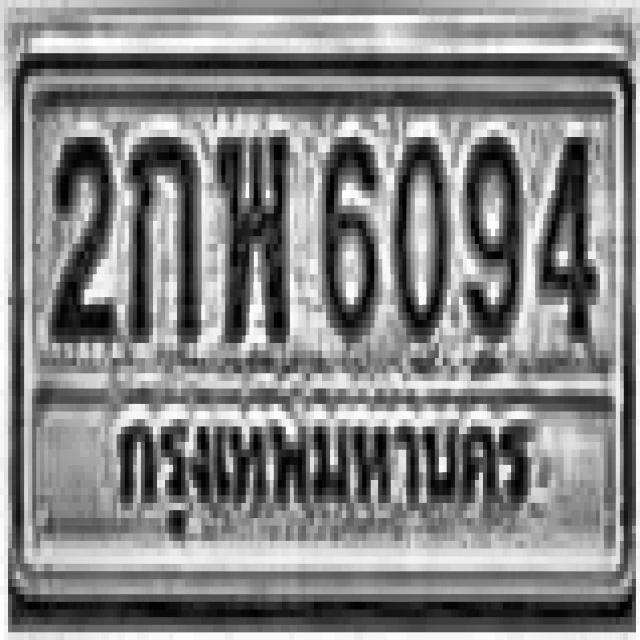license-plate: (13, 51, 630, 610)
